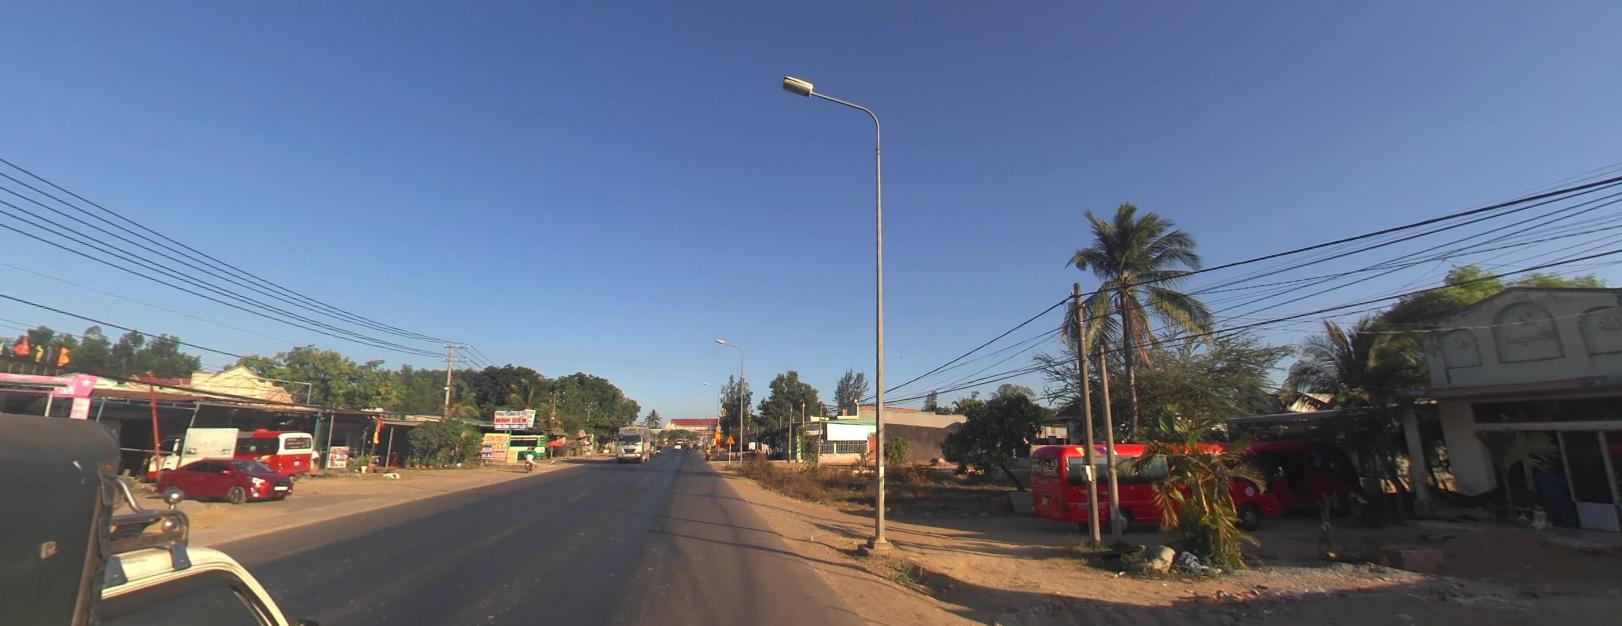Nguy hiem: (725, 434, 735, 443)
